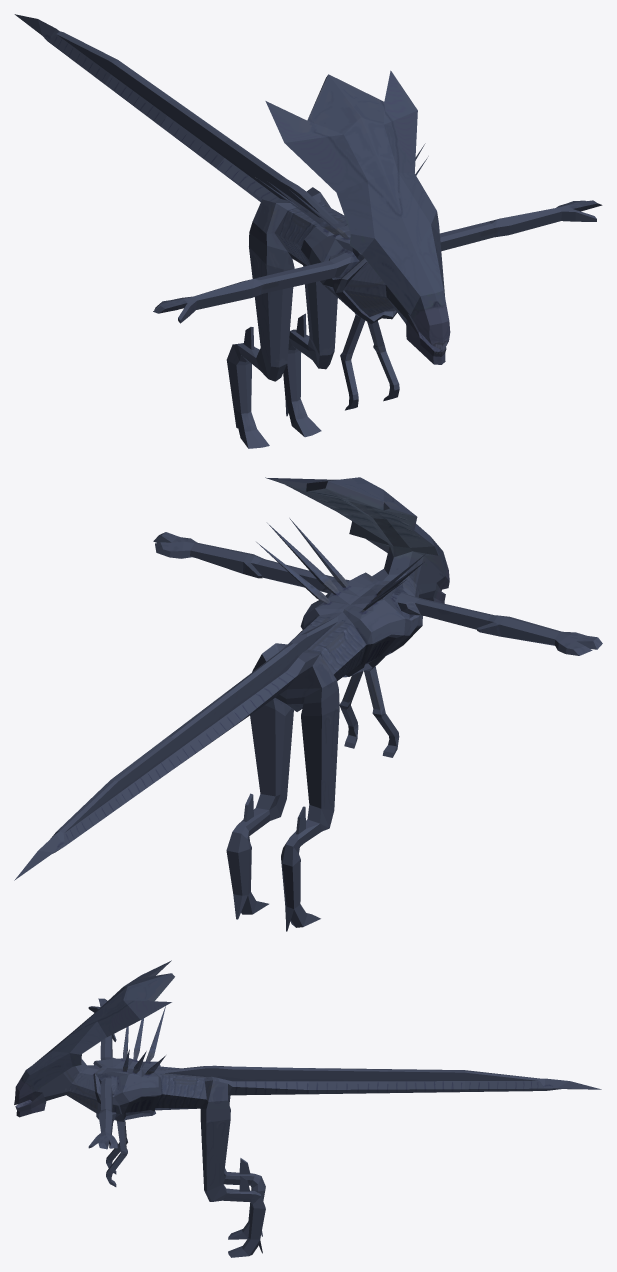
Rendered from SK_Queen.fbx.
3 views of the same model, one above another, from view 1: azimuth 30°, elevation 25°; view 2: azimuth 150°, elevation 25°; view 3: azimuth 270°, elevation 25° (orthographic). The views are drawn at different scales.
Parts seen in each view (by area): view 1: SK_Queen; view 2: SK_Queen; view 3: SK_Queen.
Part boxes in pixels (<box>): SK_Queen: <box>14,14,602,448</box>; SK_Queen: <box>14,477,602,931</box>; SK_Queen: <box>14,960,601,1257</box>.
Size of the model in its own units: 1.17 by 1 by 1.96.
1 material, 1 textured.
